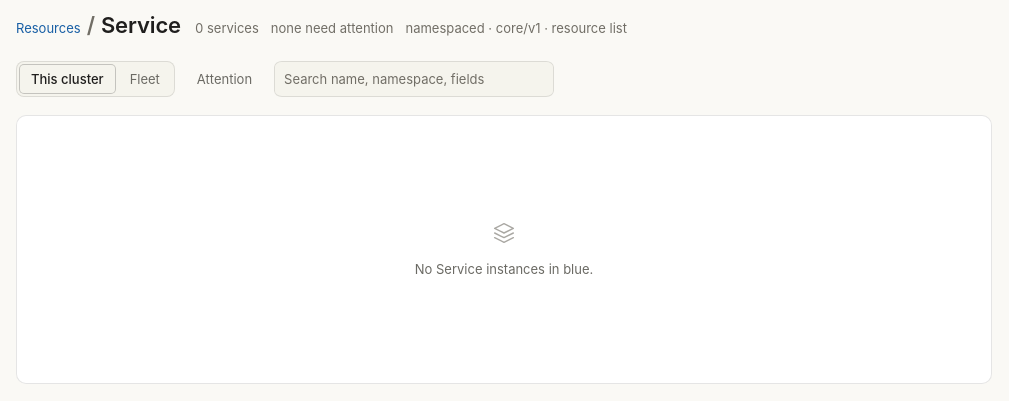
Scenario: InstanceList Codex rework (Resources review) › 3a. a capped fleet read is a lower bound with a bounded continuation
Click the button "Fleet" at point(145, 79), box [118,64,172,94]
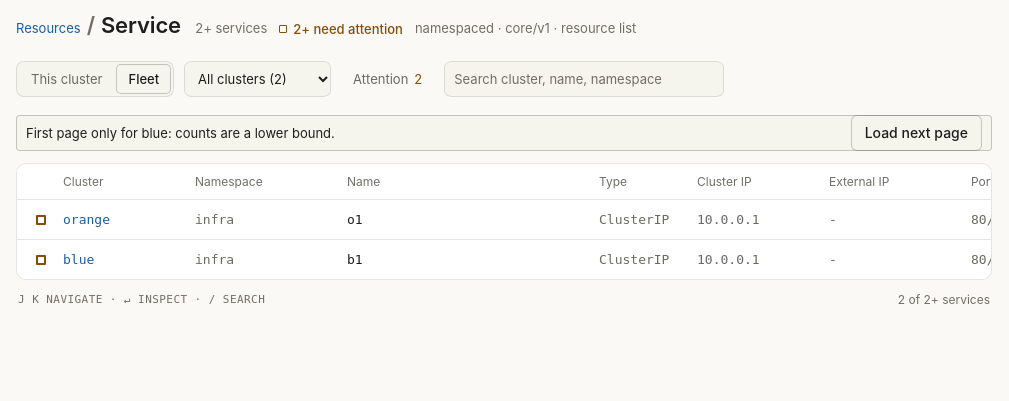
Result: the text "First page only for blue: counts are a lower bound." is shown at [26,125,335,141]
Result: the text "2+ services" is shown at [195,19,267,37]
Click the button "Load next page" at point(916, 133), box [851,115,982,151]
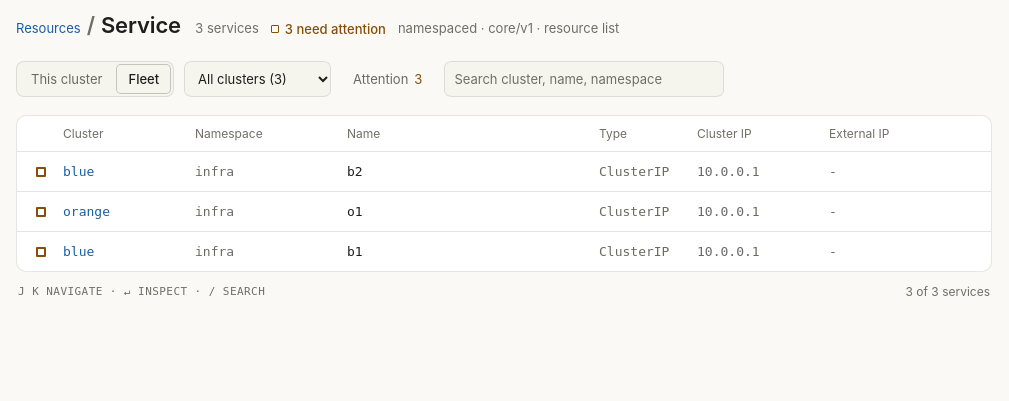
Result: the text "b2" is shown at [347,162,363,180]
Result: the text "3 services" is shown at [195,19,259,37]
